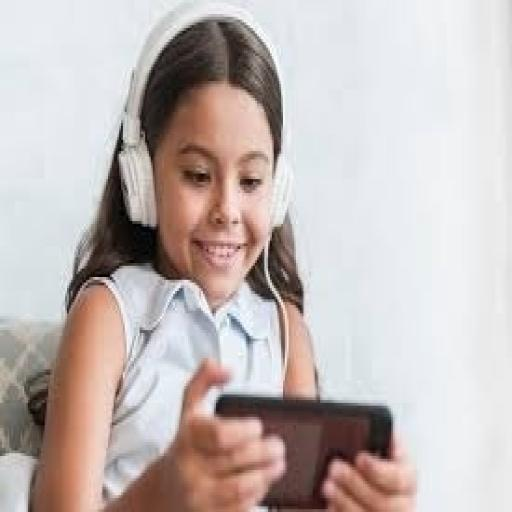listening_to_music: (26, 3, 419, 509)
